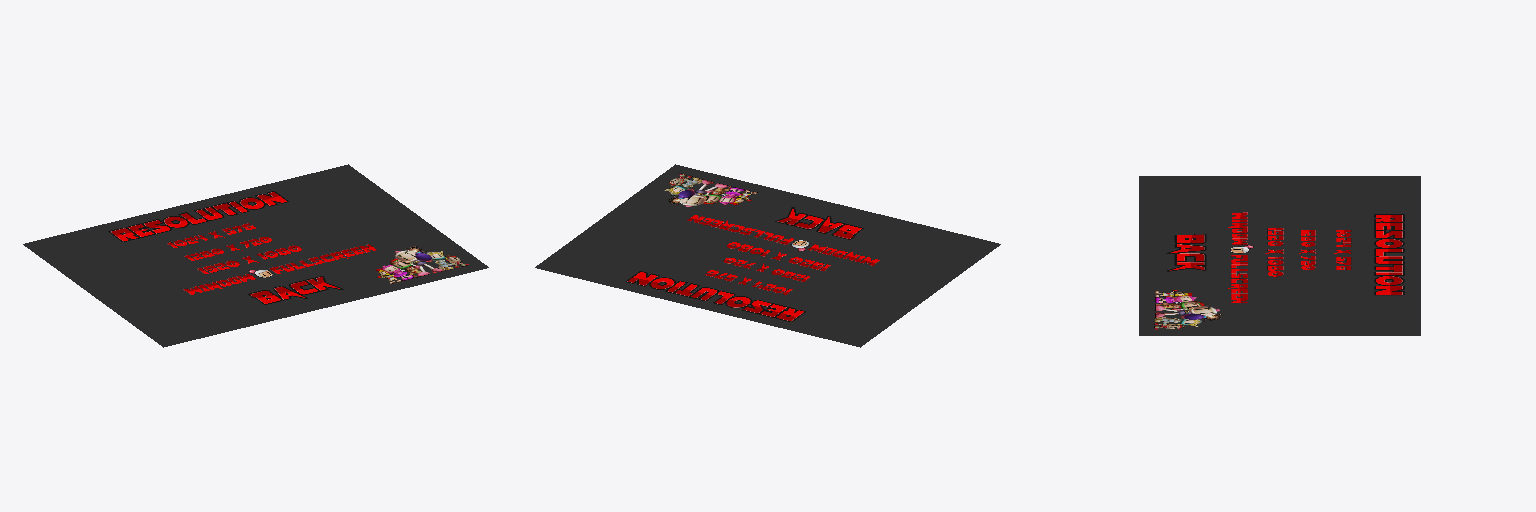
3 renders of one model, left to right at view 1: azimuth 30°, elevation 25°; view 2: azimuth 150°, elevation 25°; view 3: azimuth 270°, elevation 25°, orthographic.
Visible parts, largest first — view 1: Plane; view 2: Plane; view 3: Plane.
Part boxes in pixels (x1,y1,x2,y2): Plane: (23,164,488,347); Plane: (535,164,1000,347); Plane: (1139,176,1420,335).
Size of the model in its own units: 16 by 0 by 12.
Materials: 1 (1 with a texture image).